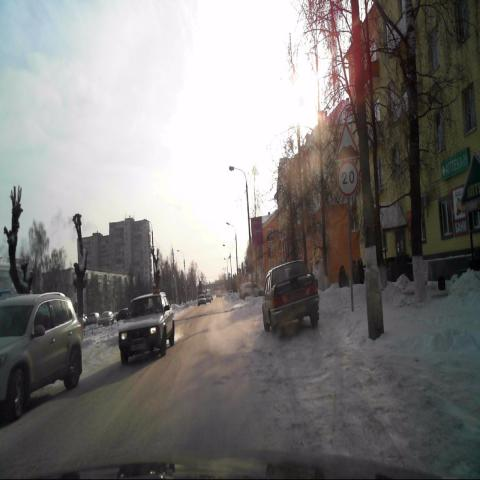1_16: (334, 122, 358, 162)
